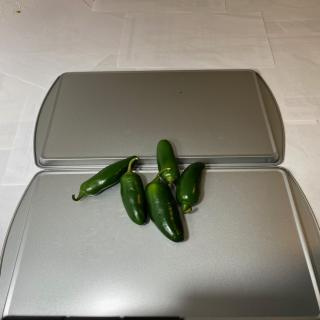Chilli: (71, 155, 138, 201), (144, 168, 184, 242), (120, 157, 148, 226), (175, 161, 206, 214), (156, 139, 180, 187)
